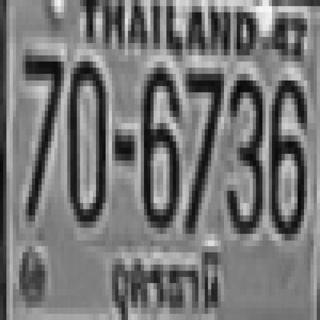N00: (67, 55, 107, 225)
N03: (224, 71, 265, 236)
N06: (141, 62, 180, 230), (270, 76, 307, 239)
N07: (183, 73, 224, 234), (24, 55, 63, 222)
P73: (104, 236, 224, 320)
